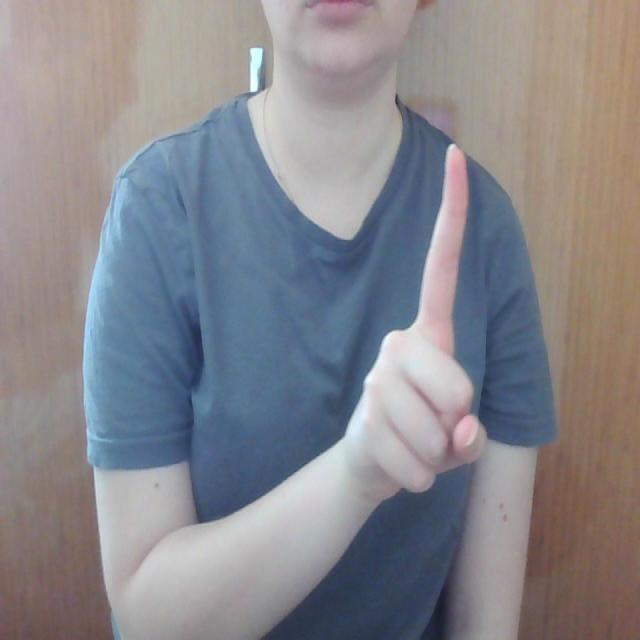Hayir: (346, 111, 502, 513)
